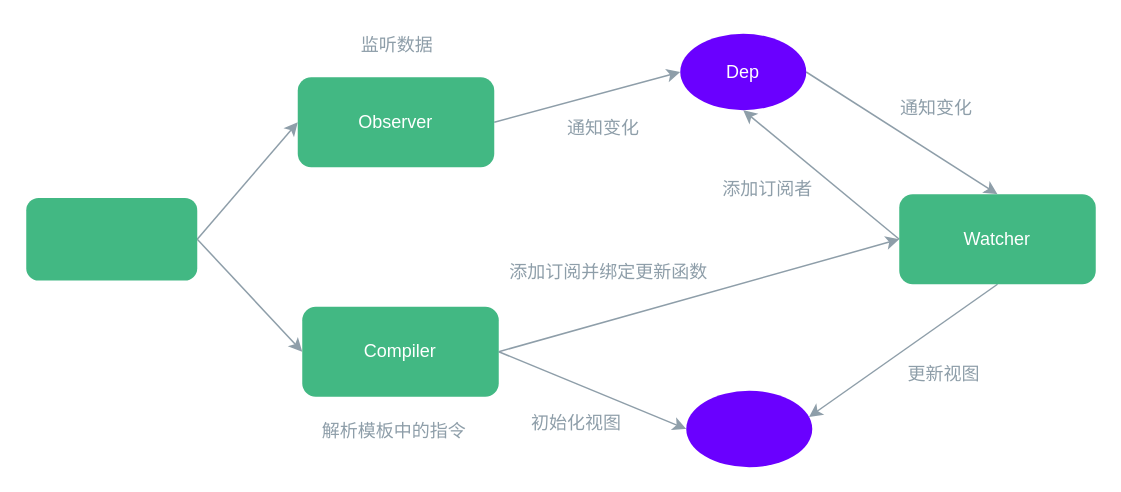
Image size: 1121x492. Some labels were removed from this diagram. Each missing label, with the box of its shape:
Updater: (686, 390, 812, 466)
初始化实例: (26, 197, 196, 280)
